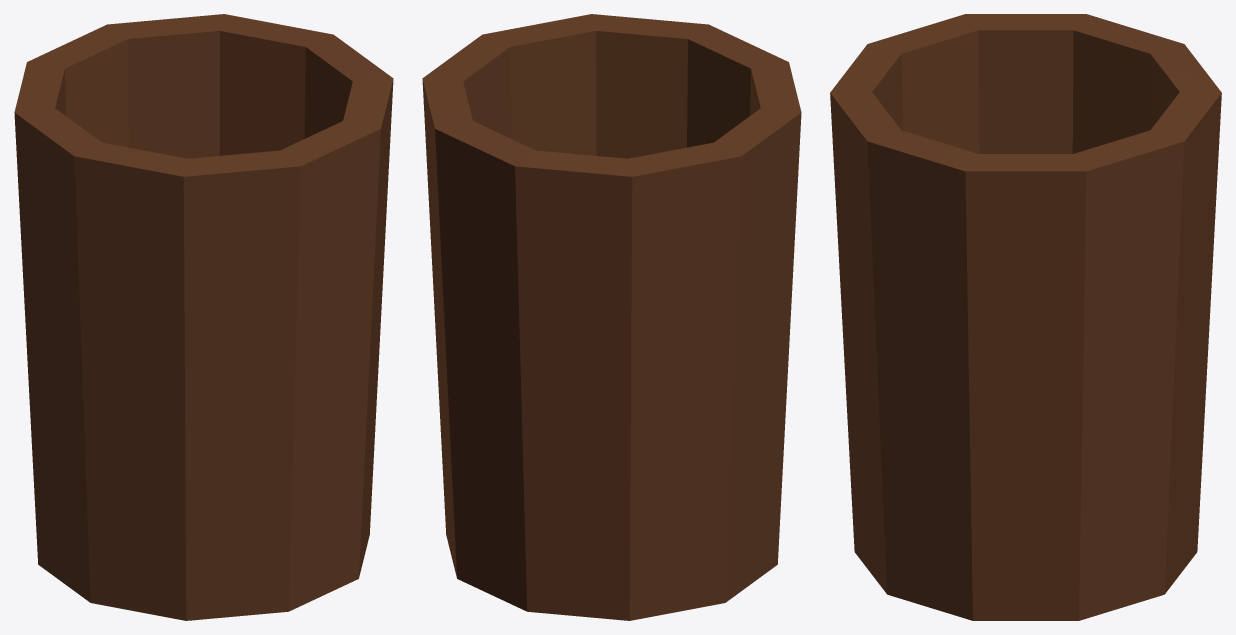
Rendered from Cup Overlay.obj.
3 views of the same model, side by side, from view 1: azimuth 30°, elevation 25°; view 2: azimuth 150°, elevation 25°; view 3: azimuth 270°, elevation 25° (orthographic).
Visible parts, largest first — view 1: Cup_Overlay; view 2: Cup_Overlay; view 3: Cup_Overlay.
Part boxes in pixels (bbox=[...]): Cup_Overlay: bbox=[14, 14, 393, 620]; Cup_Overlay: bbox=[422, 14, 801, 620]; Cup_Overlay: bbox=[830, 14, 1221, 620].
Size of the model in its own units: 0.0873 by 0.1188 by 0.0917.
